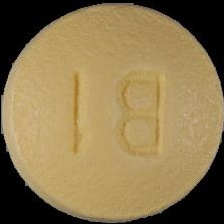0093-7620: (0, 0, 224, 224)
